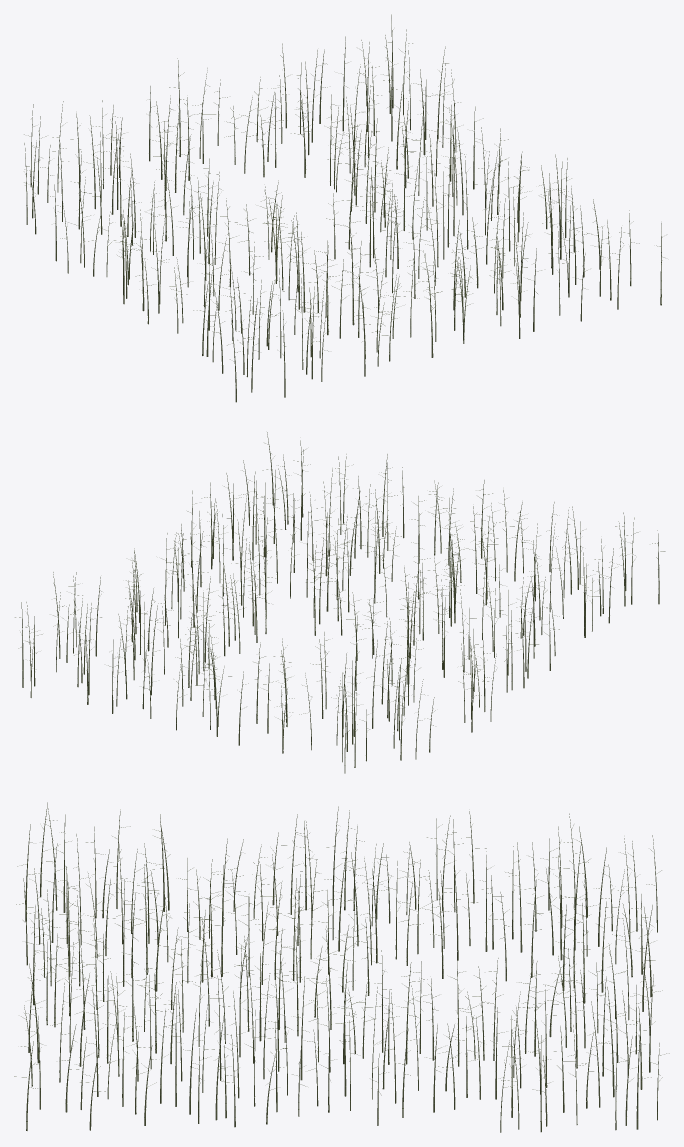
File: bamboo_culms_5.glb
3 views of the same model, one above another, from view 1: azimuth 30°, elevation 25°; view 2: azimuth 150°, elevation 25°; view 3: azimuth 270°, elevation 25° (orthographic). The views are drawn at different scales.
Visible parts, largest first — view 1: bamboo_culms_50, bamboo_culms_51, bamboo_culms_52, bamboo_culms_53; view 2: bamboo_culms_50, bamboo_culms_53, bamboo_culms_52, bamboo_culms_51; view 3: bamboo_culms_50, bamboo_culms_51, bamboo_culms_52, bamboo_culms_53.
Part boxes in pixels (x1,y1,x2,y2): bamboo_culms_50: (24,14,460,261); bamboo_culms_51: (58,102,508,311); bamboo_culms_52: (143,143,577,362); bamboo_culms_53: (208,199,664,402); bamboo_culms_50: (15,572,481,773); bamboo_culms_53: (231,432,665,623); bamboo_culms_52: (170,471,592,671); bamboo_culms_51: (125,531,538,722); bamboo_culms_50: (460,811,669,1132); bamboo_culms_51: (292,806,476,1125); bamboo_culms_52: (145,814,311,1127); bamboo_culms_53: (14,802,160,1130).
Size of the model in its own units: 83.22 by 18.02 by 93.38.
1 material, 1 textured.
